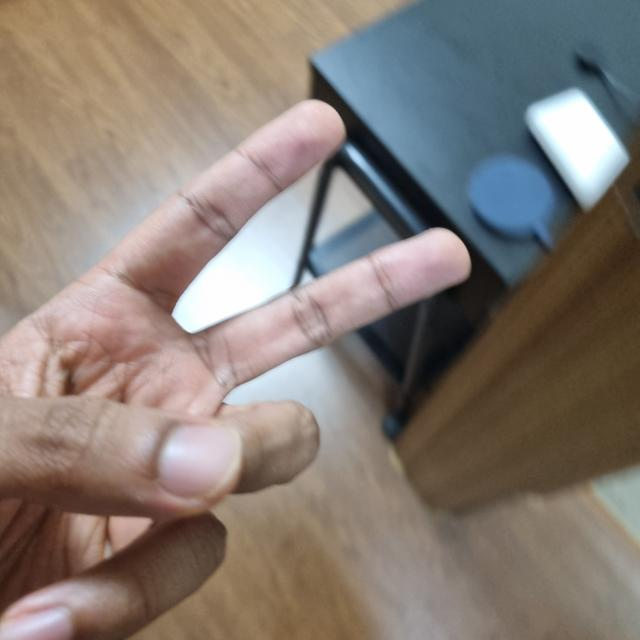Scissors: (0, 108, 462, 639)
